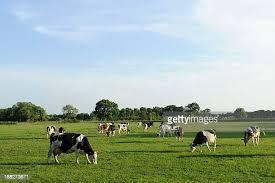cow: (46, 132, 99, 165), (188, 128, 218, 153), (240, 124, 261, 146), (155, 124, 173, 139), (97, 122, 112, 133), (105, 124, 116, 138), (174, 126, 183, 143), (46, 125, 56, 138), (117, 123, 128, 134), (58, 126, 66, 136)
